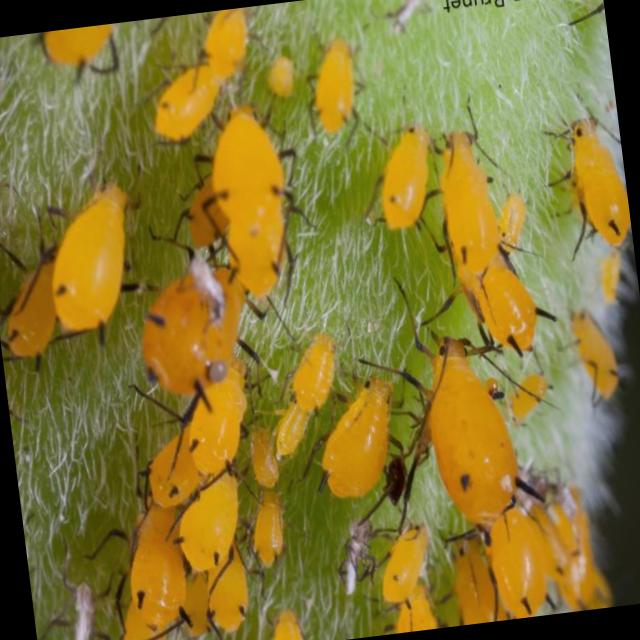Aphid: (400, 304, 544, 568), (182, 89, 322, 318), (30, 152, 157, 364), (417, 116, 525, 295), (300, 363, 416, 513), (158, 349, 274, 494), (345, 109, 449, 244), (551, 94, 633, 257), (453, 229, 554, 355), (473, 495, 563, 621), (162, 464, 258, 580), (118, 500, 194, 630), (0, 252, 70, 383), (297, 33, 369, 154), (140, 54, 228, 137), (567, 305, 627, 406), (375, 518, 437, 614), (197, 6, 257, 83), (247, 499, 290, 577), (241, 425, 283, 498)
